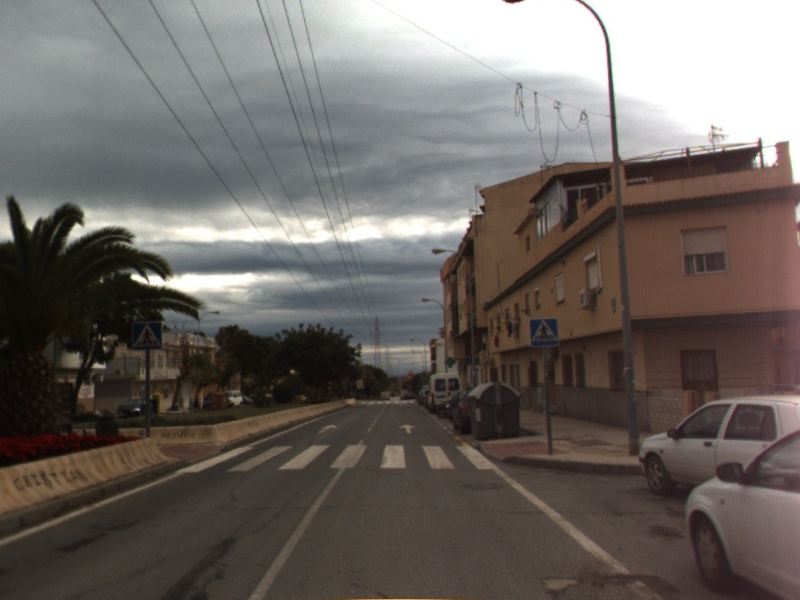STRAIGHT: (315, 422, 340, 435), (397, 422, 419, 435)
